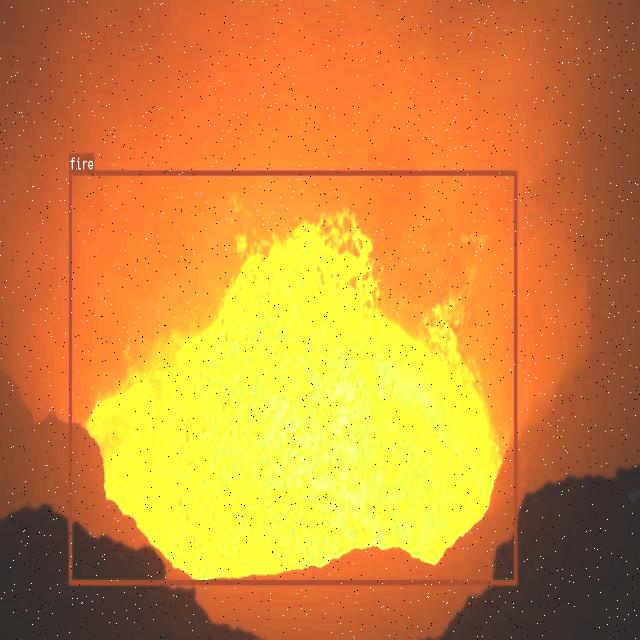fire: (68, 170, 516, 584)
